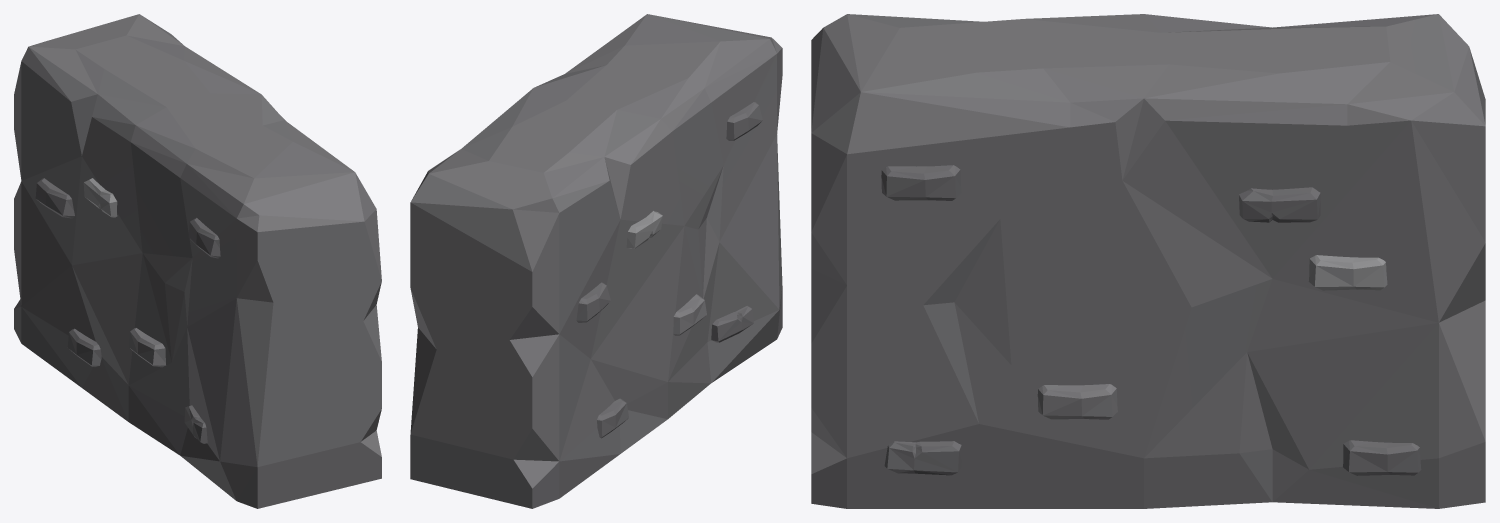
The model's file is SM_Bld_Rockwall_Straight_01.gltf.
3 views of the same model, side by side, from view 1: azimuth 30°, elevation 25°; view 2: azimuth 150°, elevation 25°; view 3: azimuth 270°, elevation 25° (orthographic). The views are drawn at different scales.
Visible parts, largest first — view 1: SM_Bld_Rockwall_Straight_01; view 2: SM_Bld_Rockwall_Straight_01; view 3: SM_Bld_Rockwall_Straight_01.
Part boxes in pixels (x1,y1,x2,y2): SM_Bld_Rockwall_Straight_01: (14, 14, 381, 508); SM_Bld_Rockwall_Straight_01: (410, 14, 782, 508); SM_Bld_Rockwall_Straight_01: (811, 14, 1485, 508).
Size of the model in its own units: 1.51 by 2.7 by 4.01.
Materials: 1 (1 with a texture image).
